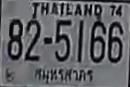1: (78, 19, 82, 64)
2: (25, 20, 41, 61)
5: (55, 20, 72, 62)
6: (90, 21, 106, 63), (108, 22, 123, 63)
8: (8, 19, 23, 60)
SKN: (32, 65, 96, 85)
